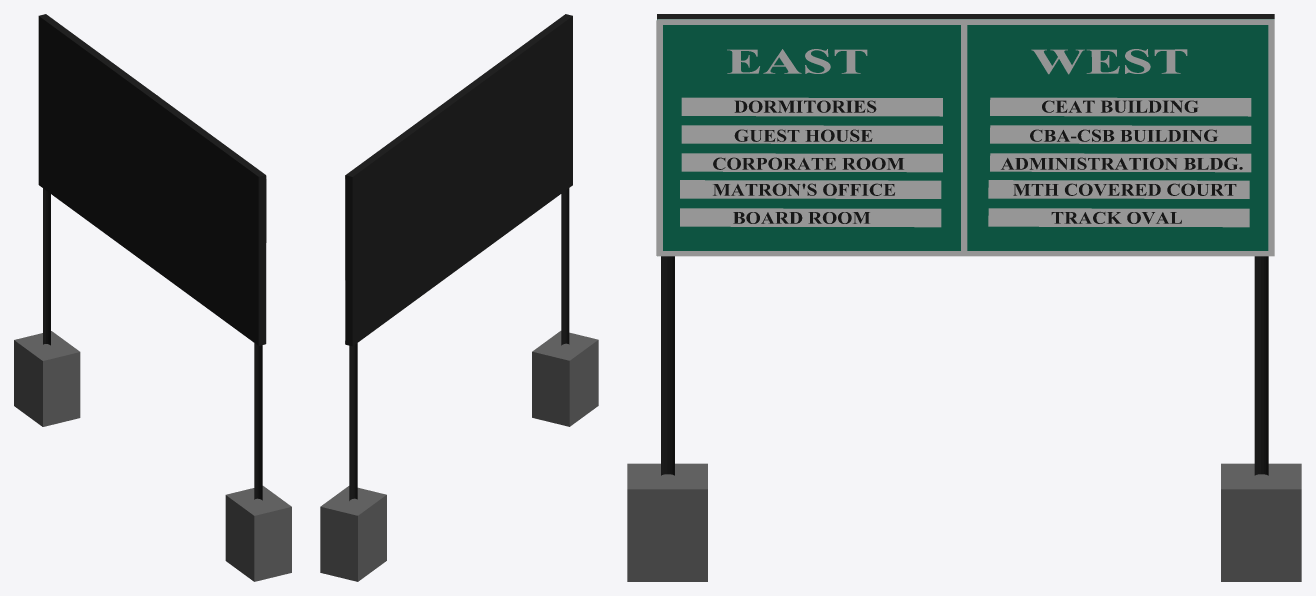
File: signage3.fbx
3 views of the same model, side by side, from view 1: azimuth 30°, elevation 25°; view 2: azimuth 150°, elevation 25°; view 3: azimuth 270°, elevation 25° (orthographic). The views are drawn at different scales.
Parts seen in each view (by area): view 1: Cube.001; view 2: Cube.001; view 3: Cube.001, Plane.014, Plane.006, Plane.010, Plane.005, Plane.009, Plane.008, Plane.011, Plane.007, Plane.013, Plane.012, Cube.004 (+14 smaller).
Boxes of the visible parts, x1,y1,x2,y2 form: Cube.001: (14, 14, 291, 581); Cube.001: (320, 14, 598, 581); Cube.001: (627, 14, 1301, 581); Plane.014: (988, 208, 1249, 227); Plane.006: (681, 125, 942, 143); Plane.010: (990, 97, 1251, 116); Plane.005: (681, 97, 942, 116); Plane.009: (680, 208, 941, 227); Plane.008: (680, 180, 941, 198); Plane.011: (990, 125, 1251, 143); Plane.007: (681, 153, 942, 172); Plane.013: (988, 180, 1249, 198); Plane.012: (990, 153, 1251, 172); Cube.004: (657, 251, 1274, 256).
Size of the model in its own units: 81.15 by 813 by 900.
